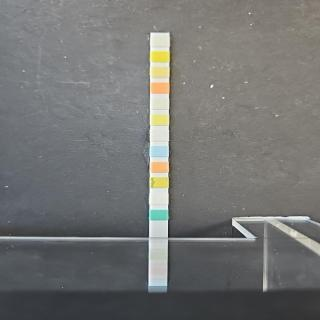mark: (151, 34, 169, 48), (151, 112, 168, 126), (151, 82, 169, 95), (151, 66, 169, 79), (150, 130, 169, 142), (150, 144, 168, 156), (151, 161, 168, 173), (151, 98, 168, 110), (150, 193, 168, 204), (151, 176, 168, 187), (151, 51, 168, 62), (150, 210, 168, 220)
